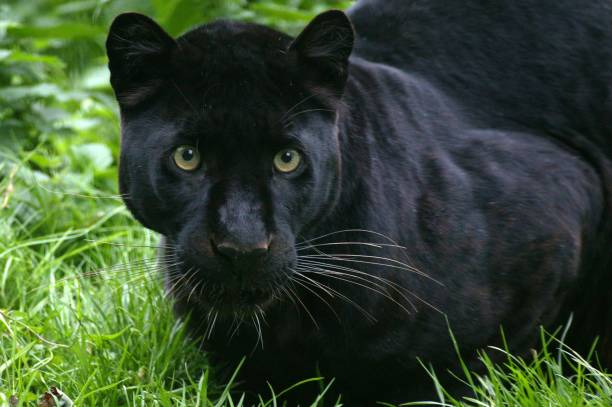panther: (92, 10, 406, 340)
